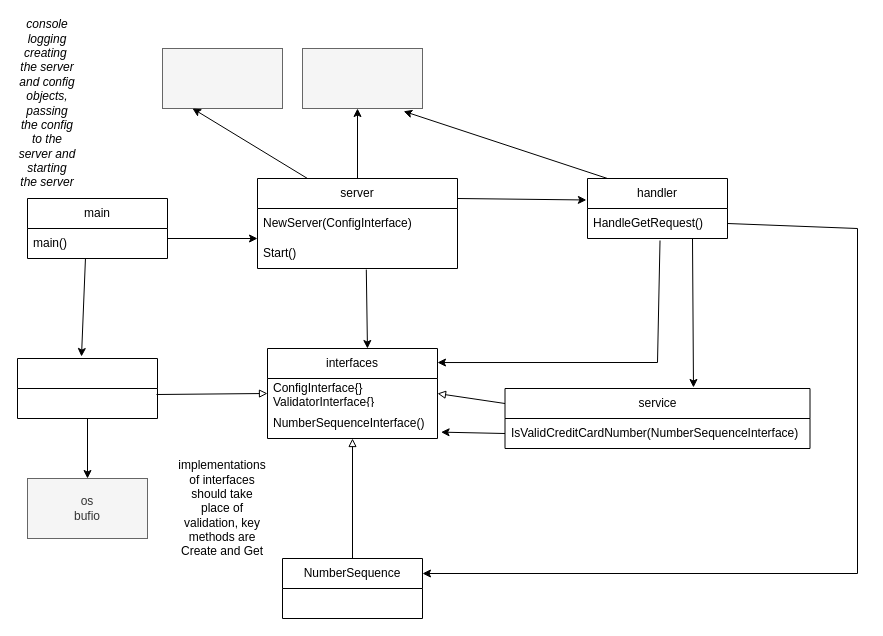
The diagram is 883 pixels wide and 636 high, and some of its shapes have lost their labels. Here are the shapes that lost their labels. From the top down, the centre of each, then its label:
At point (222, 78): "log".
At point (362, 78): "net/http".
At point (87, 388): "Config".
